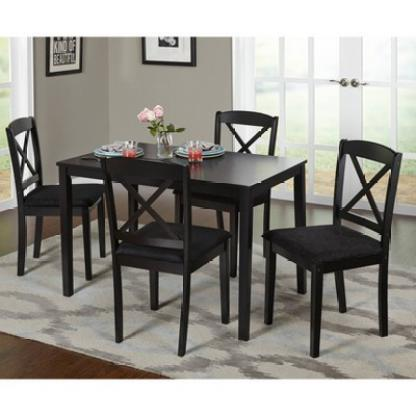chair: (258, 133, 401, 357), (105, 155, 235, 361), (0, 107, 107, 275), (178, 104, 284, 267)
door: (239, 42, 347, 196), (347, 47, 416, 204)
table: (55, 142, 316, 344)
